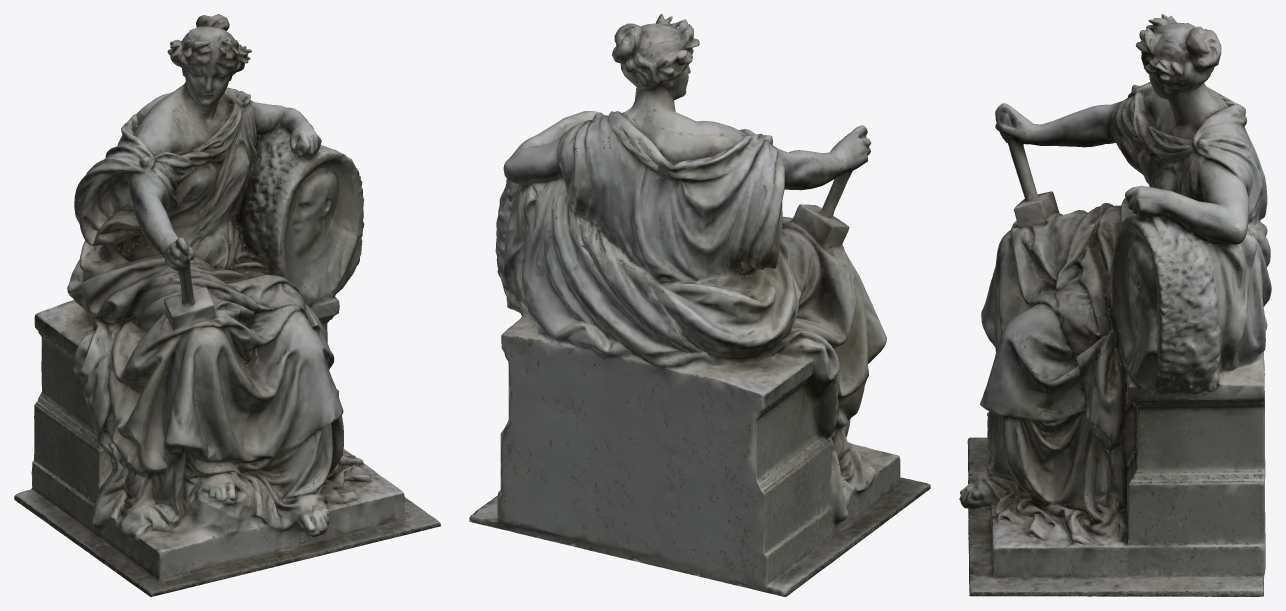
File: johannes_benk.glb
The picture shows the model from 3 angles, left to right: view 1: azimuth 30°, elevation 25°; view 2: azimuth 150°, elevation 25°; view 3: azimuth 270°, elevation 25°; orthographic projection. The views are drawn at different scales.
Parts seen in each view (by area): view 1: Object_2; view 2: Object_2; view 3: Object_2.
Boxes of the visible parts, bbox=[...] form: Object_2: bbox=[14, 14, 440, 596]; Object_2: bbox=[469, 14, 930, 596]; Object_2: bbox=[959, 14, 1271, 596].
Size of the model in its own units: 1.16 by 1.69 by 0.9515.
Materials: 1 (1 with a texture image).
